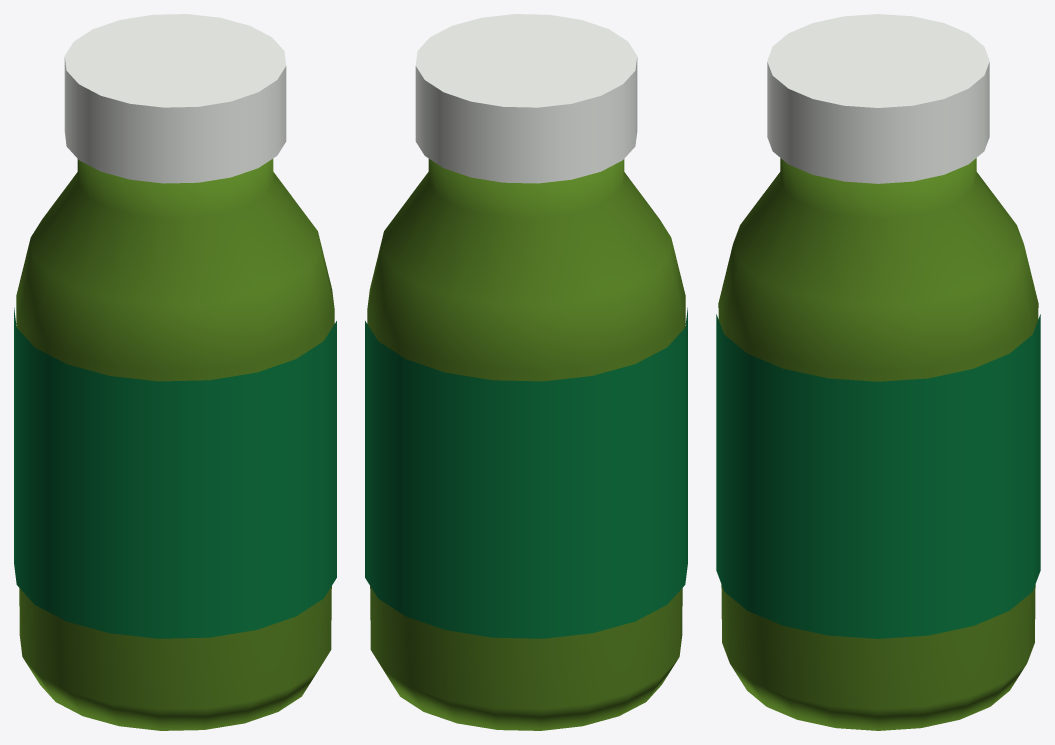
File: bottle-1.glb
3 views of the same model, side by side, from view 1: azimuth 30°, elevation 25°; view 2: azimuth 150°, elevation 25°; view 3: azimuth 270°, elevation 25° (orthographic).
Parts seen in each view (by area): view 1: BrandLabel, JuiceBody, BottleCap; view 2: BrandLabel, JuiceBody, BottleCap; view 3: BrandLabel, JuiceBody, BottleCap.
Part boxes in pixels (<box>): BrandLabel: <box>14,307,336,638</box>; JuiceBody: <box>16,159,334,730</box>; BottleCap: <box>64,14,286,183</box>; BrandLabel: <box>365,307,687,638</box>; JuiceBody: <box>367,159,685,730</box>; BottleCap: <box>415,14,637,183</box>; BrandLabel: <box>716,314,1040,638</box>; JuiceBody: <box>718,158,1038,730</box>; BottleCap: <box>767,14,989,183</box>.
Size of the model in its own units: 0.446 by 0.9275 by 0.446.
